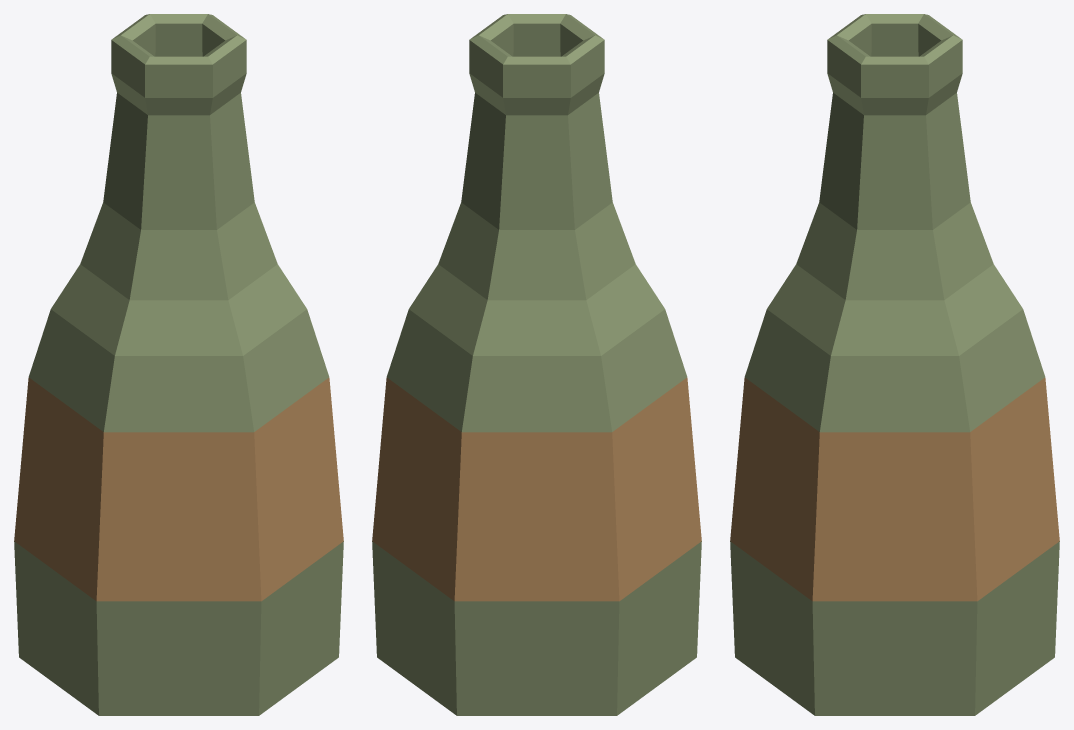
The model's file is bottle1.fbx.
The picture shows the model from 3 angles, left to right: view 1: azimuth 30°, elevation 25°; view 2: azimuth 150°, elevation 25°; view 3: azimuth 270°, elevation 25°; orthographic projection.
Visible parts, largest first — view 1: bottlegreen; view 2: bottlegreen; view 3: bottlegreen.
Part boxes in pixels (left/top/right/bottom): bottlegreen: left=14, top=14, right=343, bottom=715; bottlegreen: left=372, top=14, right=701, bottom=715; bottlegreen: left=730, top=14, right=1059, bottom=715.
Bounding box in the file's own units: 39.05 × 93.87 × 45.09.
